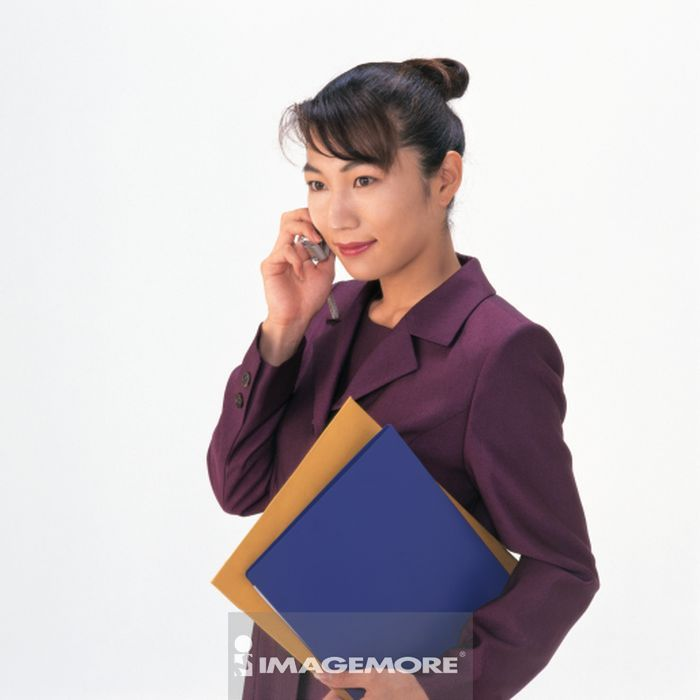talk: (260, 154, 390, 348)
